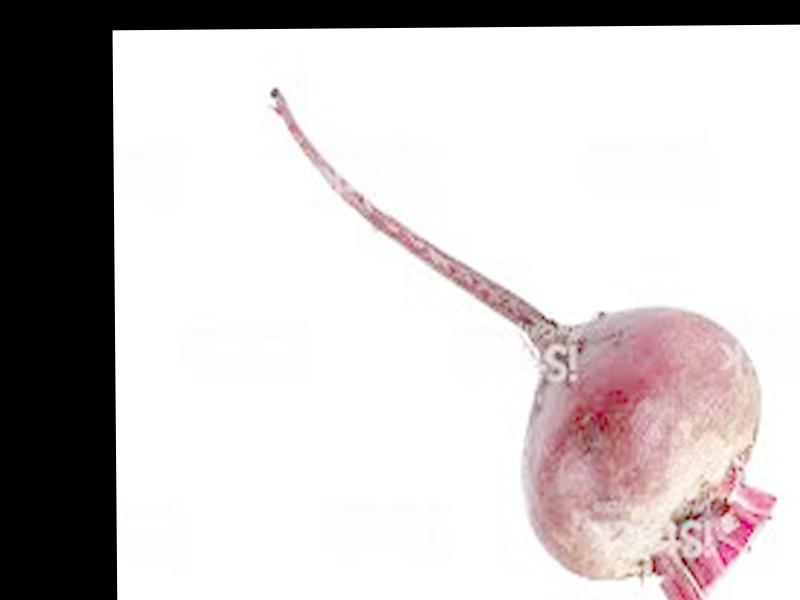Beet: (269, 86, 774, 600)
